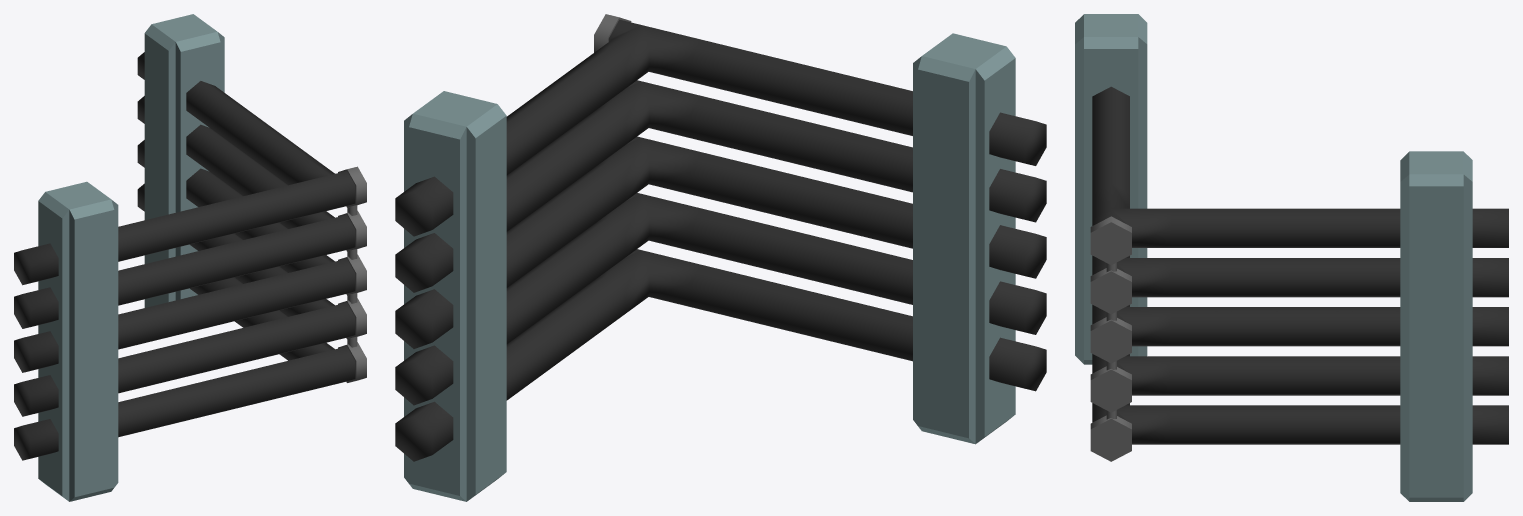
3 views of the same model, side by side, from view 1: azimuth 30°, elevation 25°; view 2: azimuth 150°, elevation 25°; view 3: azimuth 270°, elevation 25° (orthographic). The views are drawn at different scales.
Visible parts, largest first — view 1: SW_1x-5x-1_c_h; view 2: SW_1x-5x-1_c_h; view 3: SW_1x-5x-1_c_h.
Boxes of the visible parts, x1,y1,x2,y2 form: SW_1x-5x-1_c_h: [14, 14, 366, 501]; SW_1x-5x-1_c_h: [395, 14, 1046, 501]; SW_1x-5x-1_c_h: [1075, 14, 1508, 501].
Size of what is drawn, in the model's own units: 60 by 50 by 60.
